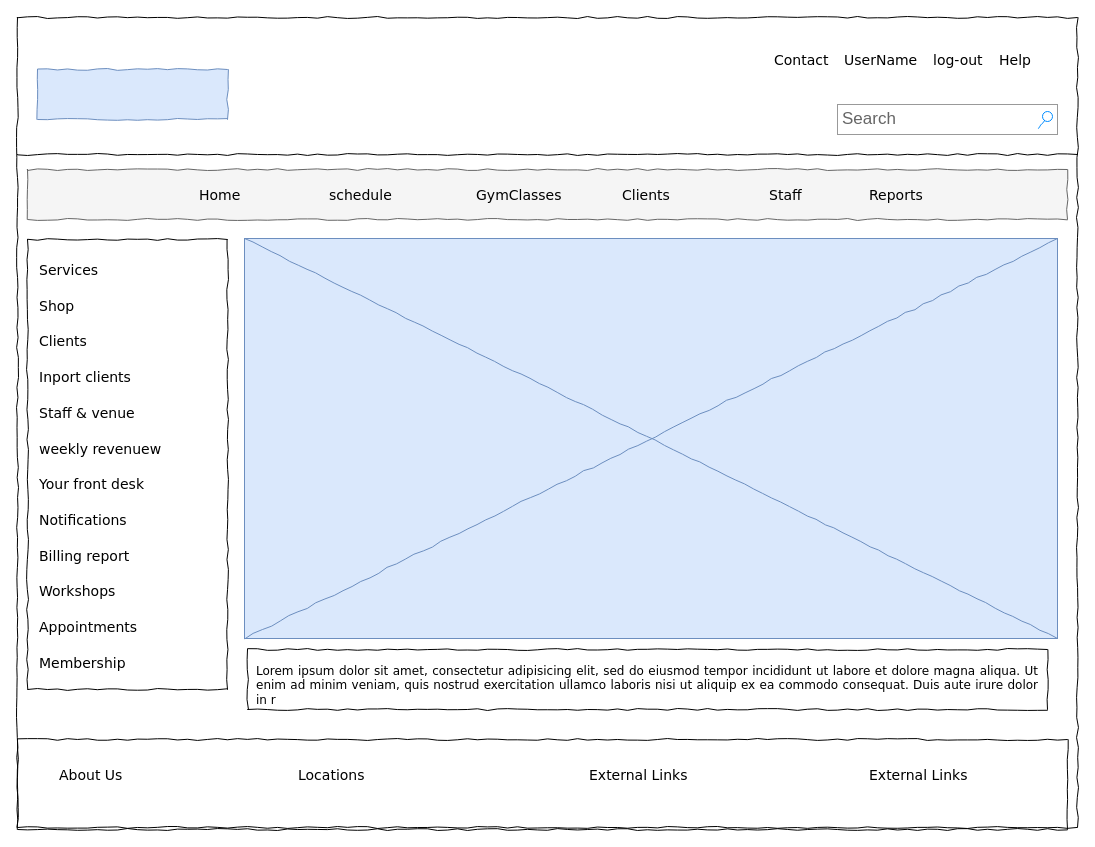
This 1095x847 diagram has some shape labels left out. The shapes that lost their labels are listed below. From the top down, each one's box as (x1, y1, x2, y2) in pixels, then its label:
(36, 68, 228, 120): CSS Fitness
(244, 238, 1058, 638): Client Management
